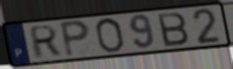2: (191, 7, 223, 46)
9: (128, 13, 157, 51)
B: (155, 11, 191, 48)
O: (93, 16, 126, 54)
P: (58, 19, 92, 59)
R: (29, 24, 62, 60)
